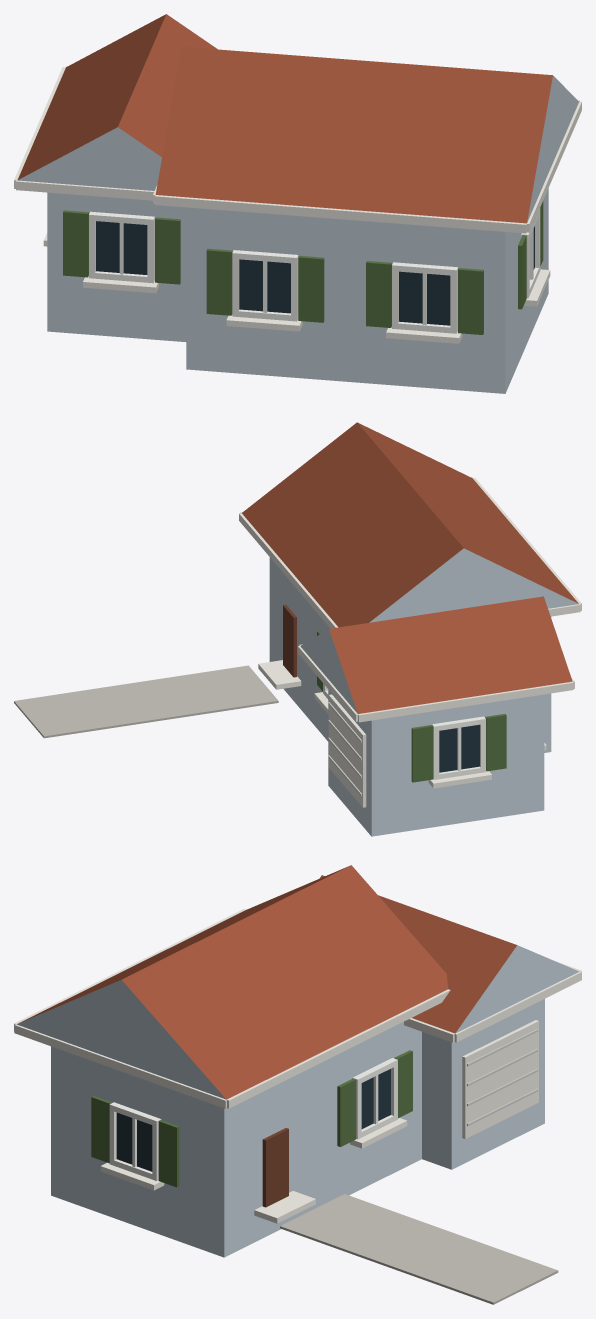
3 views of the same model, one above another, from view 1: azimuth 30°, elevation 25°; view 2: azimuth 150°, elevation 25°; view 3: azimuth 270°, elevation 25° (orthographic). The views are drawn at different scales.
Parts seen in each view (by area): view 1: b8225; view 2: b8225; view 3: b8225.
Part boxes in pixels (x1,y1,x2,y2): b8225: (14, 14, 581, 393); b8225: (14, 422, 581, 836); b8225: (14, 865, 581, 1304).
Size of the model in its own units: 6640 by 2814 by 5680.
